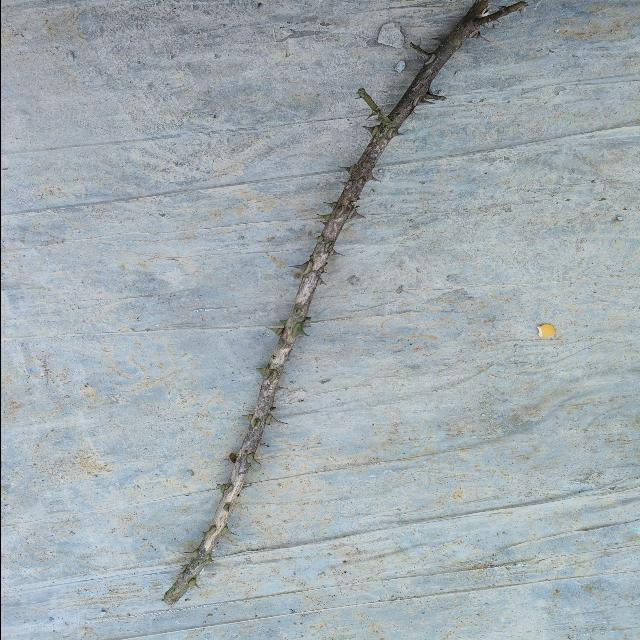branch: (166, 0, 526, 602)
